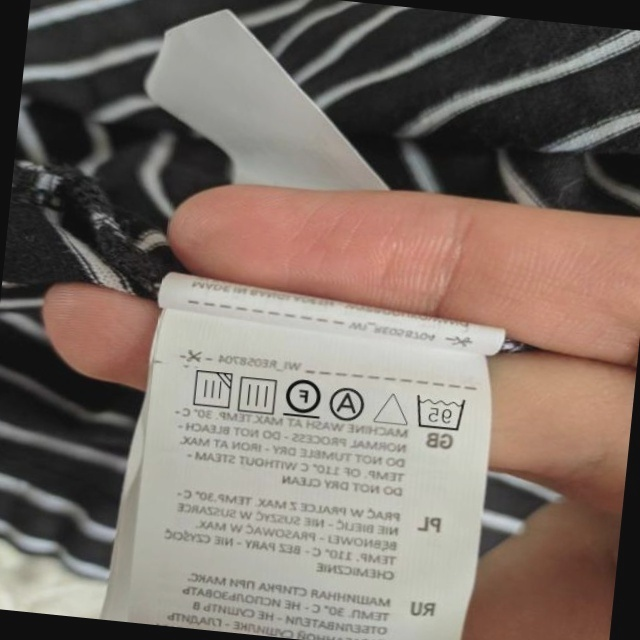95C: (411, 391, 468, 433)
bleach: (374, 386, 410, 429)
drip_dry: (234, 372, 280, 416)
drip_dry_in_shade: (186, 366, 233, 412)
dry_clean: (328, 384, 368, 423)
dry_clean_petrol_only: (282, 373, 323, 420)
